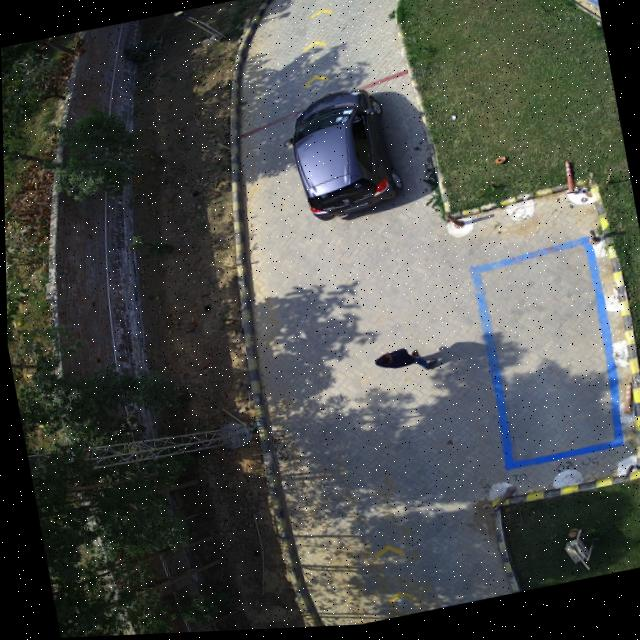car: (288, 91, 401, 223)
